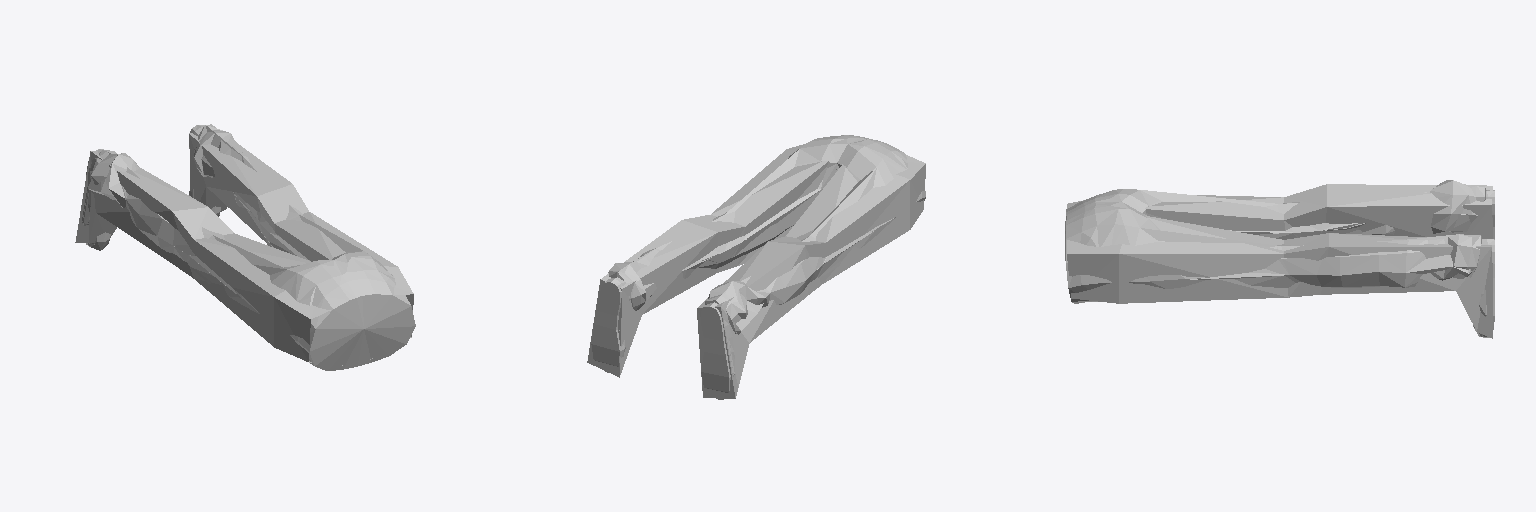
The model's file is lowr_001_u.obj.
3 renders of one model, left to right at view 1: azimuth 30°, elevation 25°; view 2: azimuth 150°, elevation 25°; view 3: azimuth 270°, elevation 25°, orthographic.
Visible parts, largest first — view 1: lowr_001_u_low_1, lowr_001_u_high_1, lowr_001_u_med_1; view 2: lowr_001_u_low_1, lowr_001_u_high_1, lowr_001_u_med_1; view 3: lowr_001_u_low_1, lowr_001_u_high_1, lowr_001_u_med_1.
Part boxes in pixels (left/top/right/bottom): lowr_001_u_low_1: left=75, top=124, right=413, bottom=365; lowr_001_u_high_1: left=82, top=125, right=415, bottom=370; lowr_001_u_med_1: left=83, top=126, right=362, bottom=293; lowr_001_u_low_1: left=587, top=143, right=925, bottom=398; lowr_001_u_high_1: left=591, top=135, right=925, bottom=399; lowr_001_u_med_1: left=616, top=149, right=876, bottom=374; lowr_001_u_low_1: left=1067, top=184, right=1492, bottom=338; lowr_001_u_high_1: left=1065, top=180, right=1494, bottom=337; lowr_001_u_med_1: left=1141, top=184, right=1487, bottom=337.
Bounding box in the file's own units: 0.4272 × 0.3003 × 1.07.